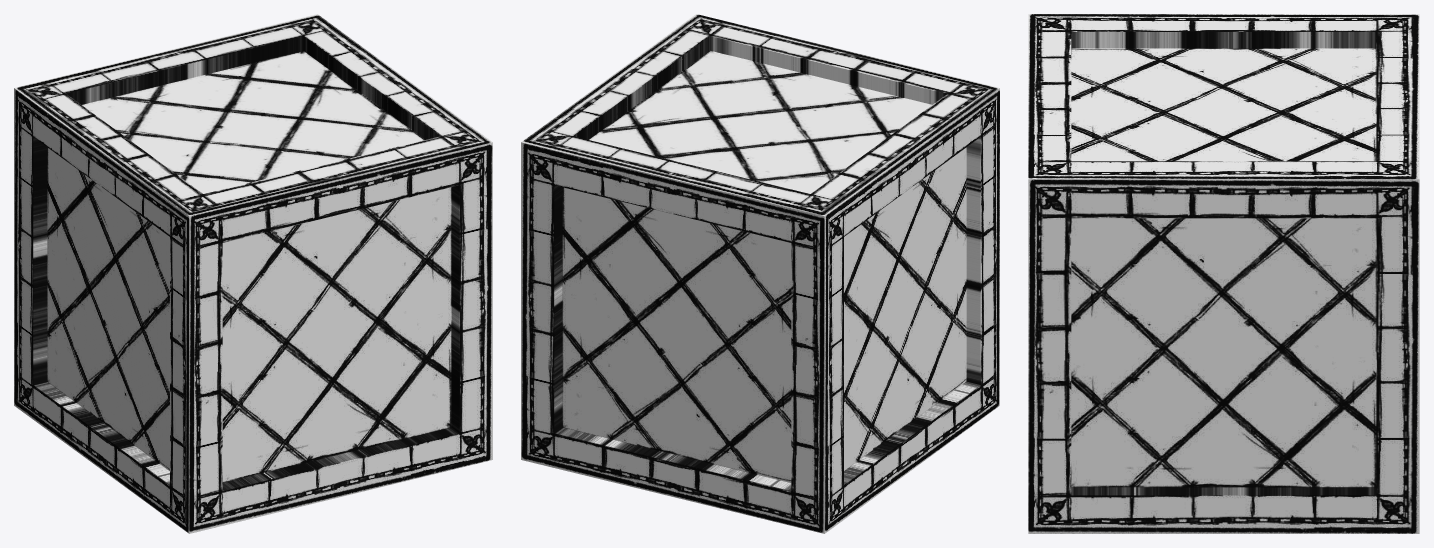
File: Block.fbx
The picture shows the model from 3 angles, left to right: view 1: azimuth 30°, elevation 25°; view 2: azimuth 150°, elevation 25°; view 3: azimuth 270°, elevation 25°; orthographic projection. The views are drawn at different scales.
Visible parts, largest first — view 1: CellBlock; view 2: CellBlock; view 3: CellBlock.
Boxes of the visible parts, x1,y1,x2,y2 form: CellBlock: [14, 14, 492, 533]; CellBlock: [521, 14, 999, 533]; CellBlock: [1028, 14, 1419, 533].
Size of the model in its own units: 100 by 100 by 100.
